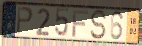2: (36, 7, 52, 38)
5: (54, 7, 70, 40)
6: (110, 10, 124, 42)
F: (72, 9, 90, 38)
P: (15, 5, 34, 36)
S: (89, 9, 108, 41)
